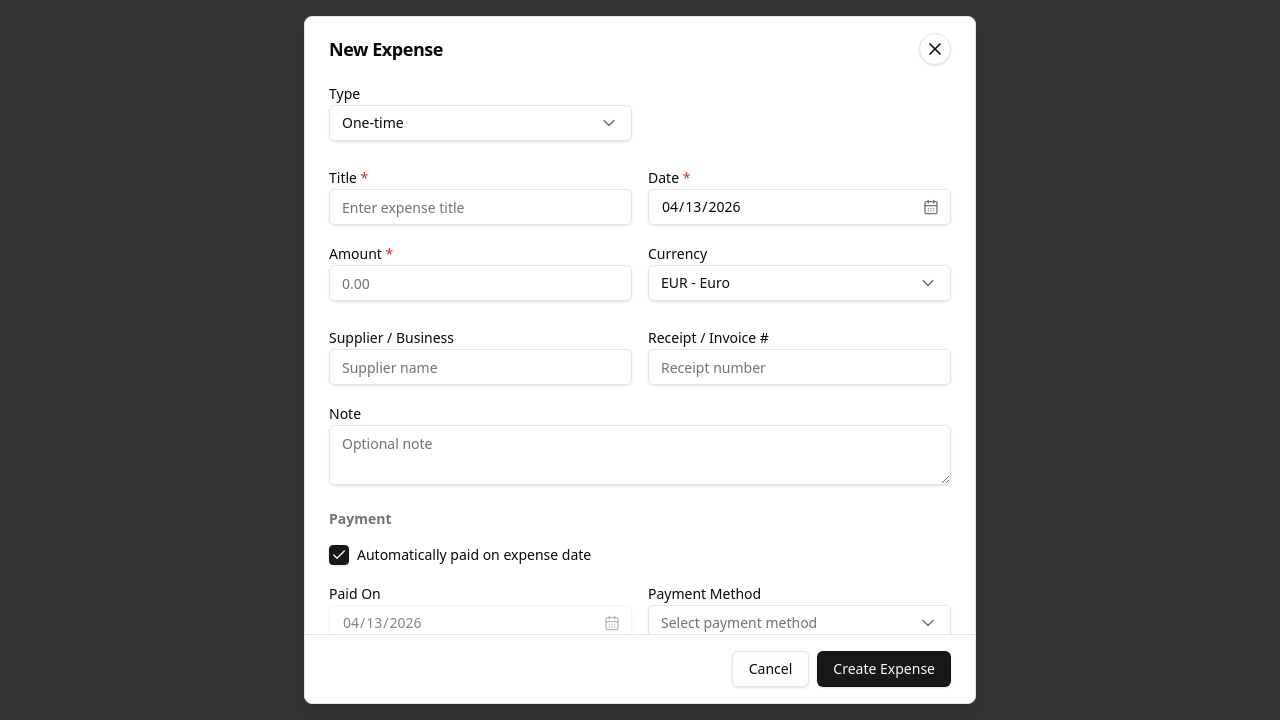
Test: ExpenseModal › switches auto-payment off when a defaulted one-time expense date moves away from today
Type "2026-04-20" into the date field labelled "Date *".
click(800, 207); type("2026-04-20")  # box x1=648 y1=189 x2=951 y2=225
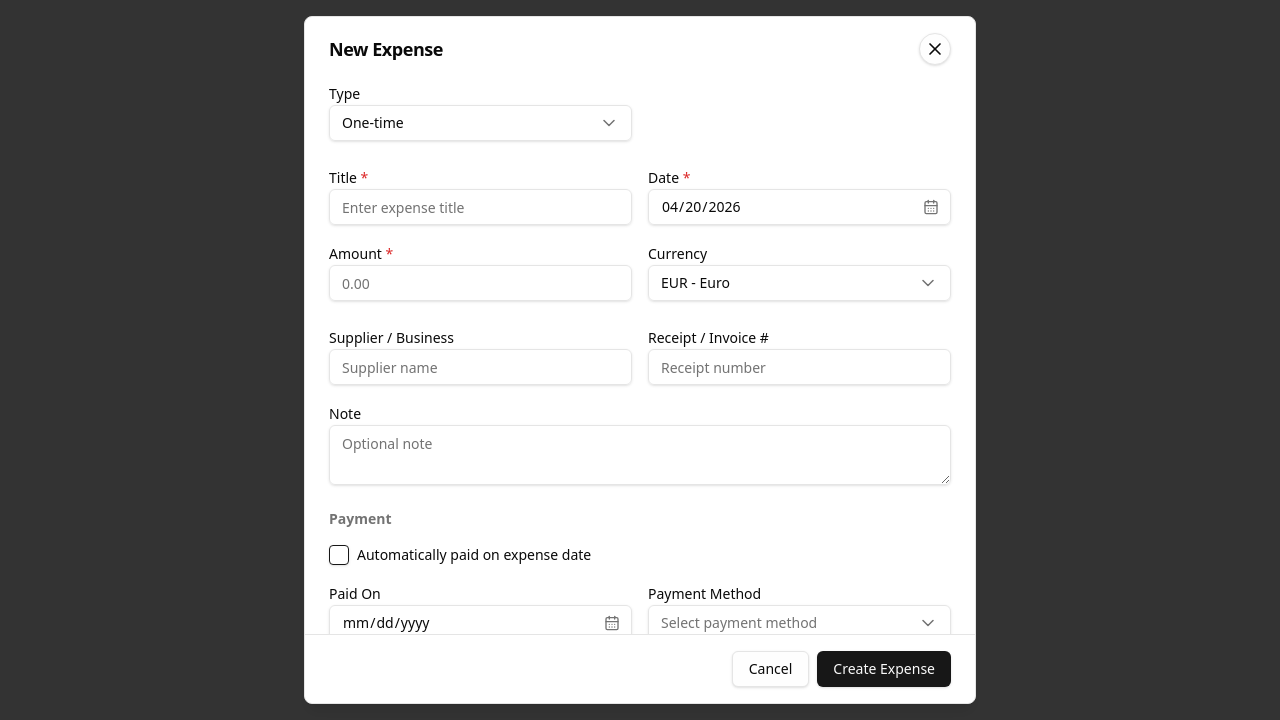
Expected: the date field labelled "Paid On" is empty, x1=329 y1=605 x2=632 y2=634
Expected: the date field labelled "Paid On" is enabled, x1=329 y1=605 x2=632 y2=634
